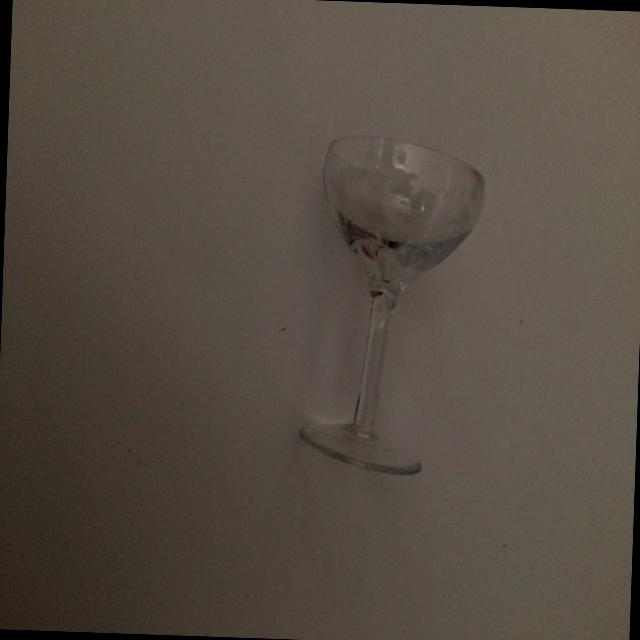Glass: (276, 116, 495, 490)
